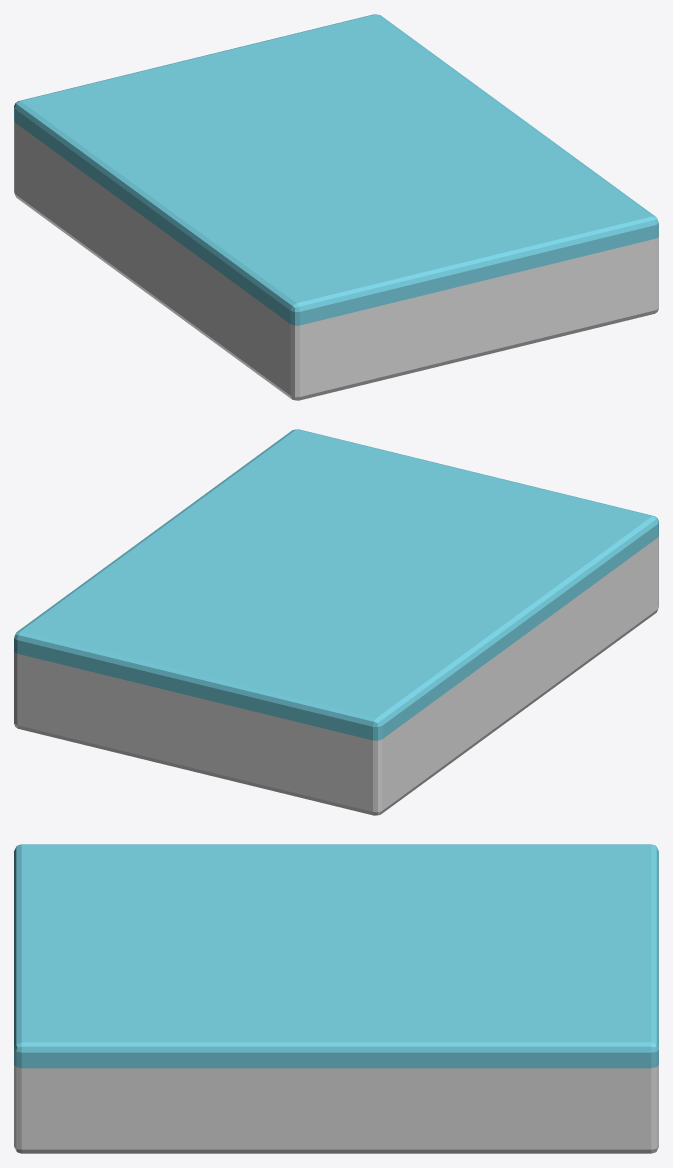
The model's file is Track Obstacle 76.fbx.
3 renders of one model, top to bottom at view 1: azimuth 30°, elevation 25°; view 2: azimuth 150°, elevation 25°; view 3: azimuth 270°, elevation 25°, orthographic. The views are drawn at different scales.
Parts seen in each view (by area): view 1: Track Same As Matt; view 2: Track Same As Matt; view 3: Track Same As Matt.
Boxes of the visible parts, left/top/right/bottom form: Track Same As Matt: left=14, top=14, right=658, bottom=400; Track Same As Matt: left=14, top=429, right=658, bottom=815; Track Same As Matt: left=14, top=844, right=658, bottom=1153.
Size of the model in its own units: 3 by 0.76 by 4.
